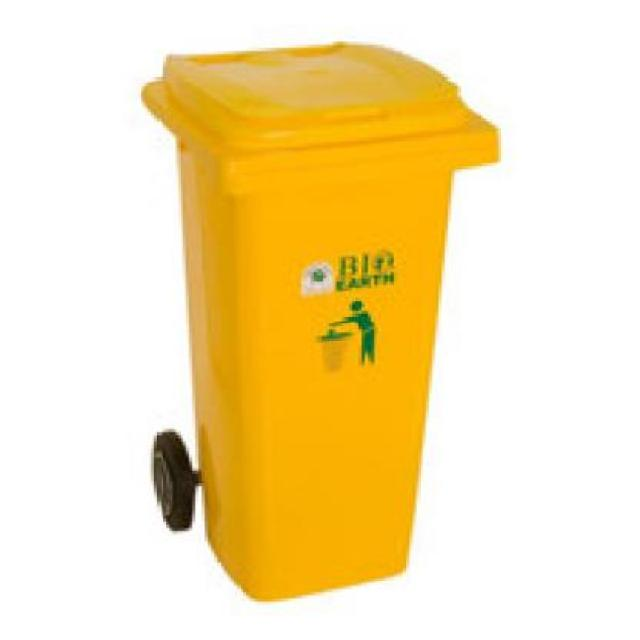garbage container: (125, 35, 524, 623)
